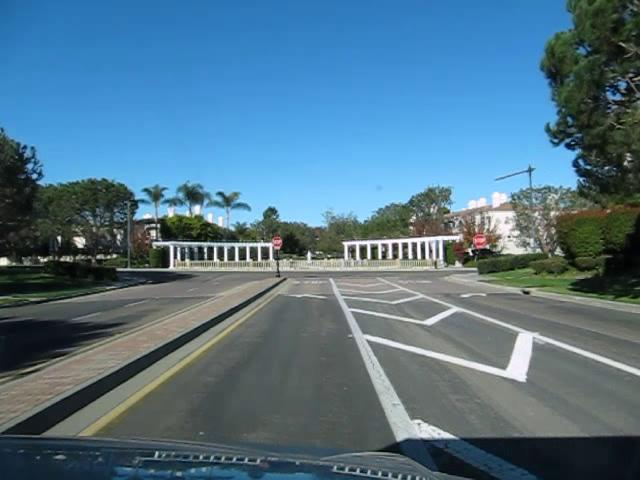stop: (472, 233, 486, 248), (271, 237, 282, 247)
